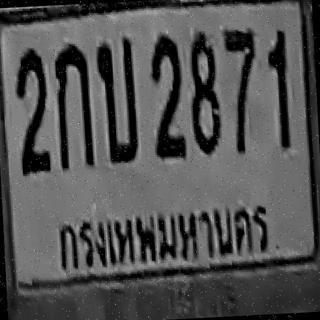A01: (52, 42, 94, 169)
N01: (266, 30, 291, 146), (265, 30, 291, 136)
N02: (14, 59, 51, 173), (149, 48, 186, 158)
N07: (222, 28, 260, 146), (222, 28, 258, 105)
N08: (186, 31, 222, 155)
P04: (49, 195, 275, 282)
